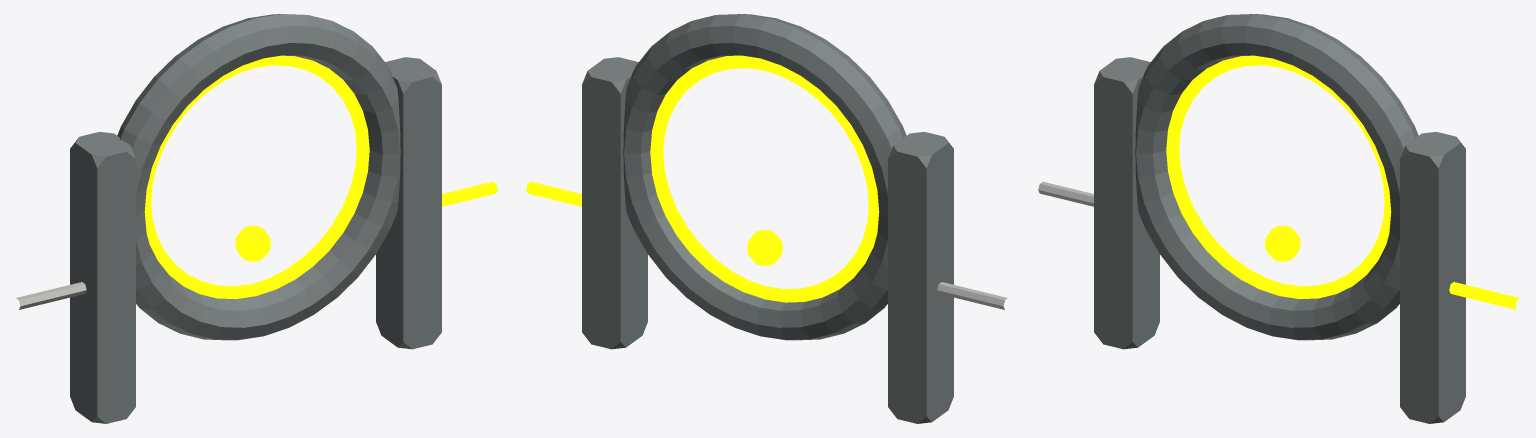
File: decision-gate.glb
3 renders of one model, left to right at view 1: azimuth 30°, elevation 25°; view 2: azimuth 150°, elevation 25°; view 3: azimuth 330°, elevation 25°, orthographic.
Parts seen in each view (by area): view 1: Gate_Frame, Gate_Pillar_Left, Gate_Pillar_Right, Gate_Authority, Gate_Decision, Gate_Input, Gate_Output; view 2: Gate_Frame, Gate_Pillar_Left, Gate_Pillar_Right, Gate_Authority, Gate_Decision, Gate_Input, Gate_Output; view 3: Gate_Frame, Gate_Pillar_Right, Gate_Pillar_Left, Gate_Authority, Gate_Decision, Gate_Output, Gate_Input.
Boxes of the visible parts, x1,y1,x2,y2 form: Gate_Frame: (117,14,400,340); Gate_Pillar_Left: (70,131,135,423); Gate_Pillar_Right: (376,57,441,349); Gate_Authority: (144,55,369,299); Gate_Decision: (235,225,270,261); Gate_Input: (16,282,86,309); Gate_Output: (442,181,497,206); Gate_Frame: (623,14,906,340); Gate_Pillar_Left: (888,131,953,423); Gate_Pillar_Right: (582,57,647,349); Gate_Authority: (650,55,879,302); Gate_Decision: (747,230,782,265); Gate_Input: (937,282,1007,309); Gate_Output: (526,181,581,206); Gate_Frame: (1135,14,1418,340); Gate_Pillar_Right: (1400,131,1465,423); Gate_Pillar_Left: (1094,57,1159,349); Gate_Authority: (1166,55,1391,299); Gate_Decision: (1265,225,1300,261); Gate_Output: (1449,282,1519,309); Gate_Input: (1038,181,1093,206).
Size of the model in its own units: 2.84 by 2.03 by 0.28.
